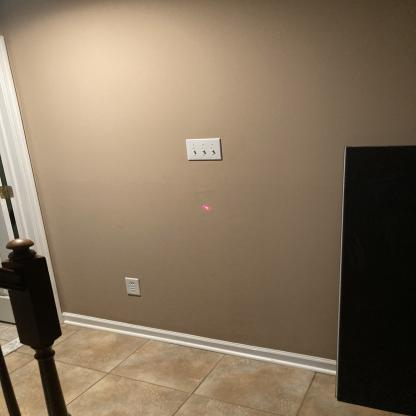target: (200, 204, 215, 212)
